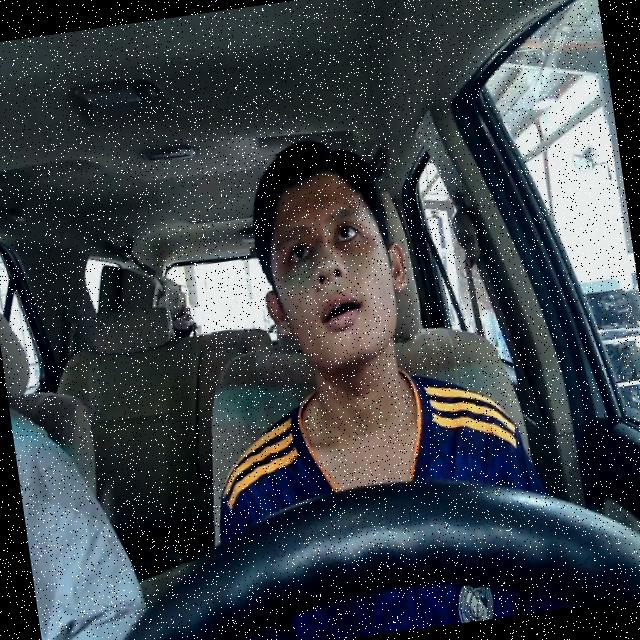yarning: (247, 162, 418, 380)
